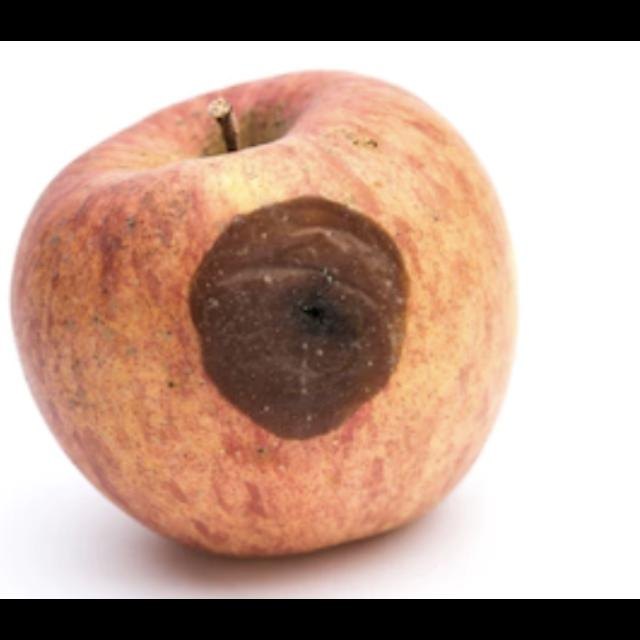Apel Tidak Segar: (5, 66, 527, 562)
